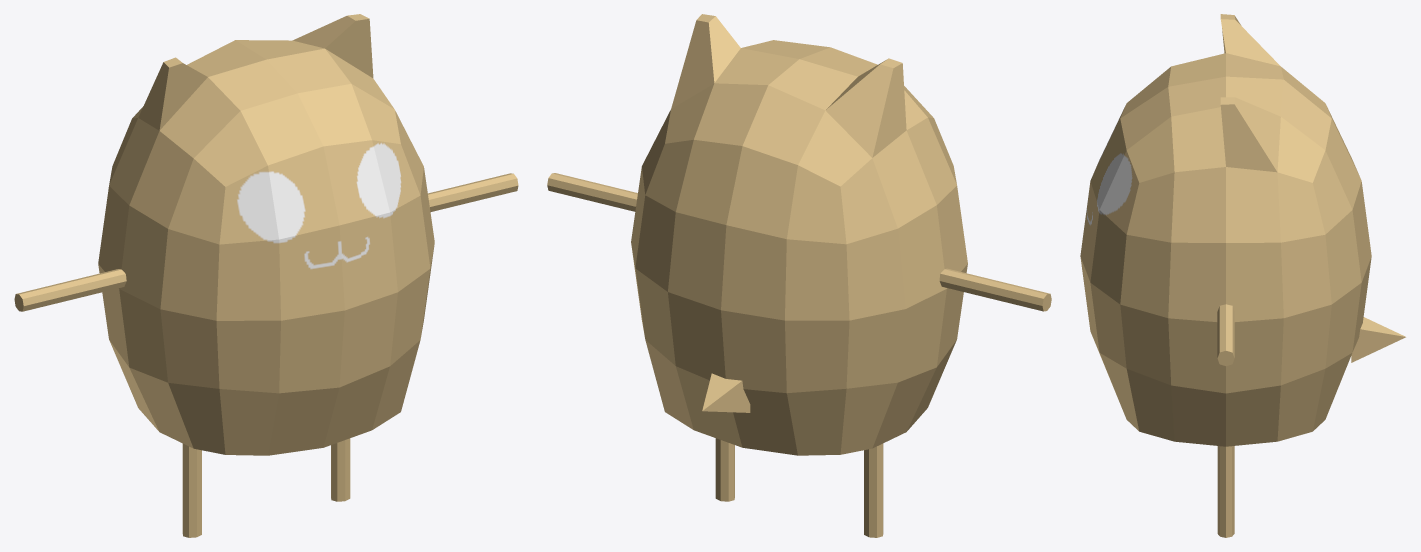
File: nyanyapuccin_yellow.glb
3 views of the same model, side by side, from view 1: azimuth 30°, elevation 25°; view 2: azimuth 150°, elevation 25°; view 3: azimuth 270°, elevation 25° (orthographic). The views are drawn at different scales.
Parts seen in each view (by area): view 1: Body, Arms, Legs; view 2: Body, Arms, Legs, Cone; view 3: Body, Legs, Cone, Arms.
Part boxes in pixels (x1,y1,x2,y2): Body: [98, 14, 434, 455]; Arms: [14, 173, 518, 311]; Legs: [182, 438, 350, 537]; Body: [631, 14, 967, 455]; Arms: [547, 173, 1051, 311]; Legs: [715, 438, 883, 537]; Cone: [702, 373, 750, 412]; Body: [1080, 14, 1371, 446]; Legs: [1217, 446, 1234, 537]; Cone: [1351, 317, 1405, 362]; Arms: [1217, 304, 1234, 365].
Size of the model in its own units: 3.95 by 3.63 by 2.43.
Materials: 1 (1 with a texture image).
